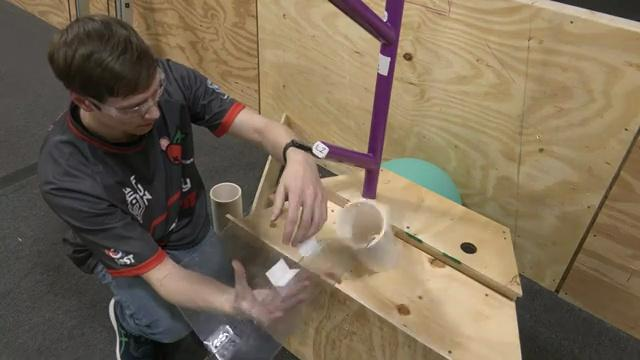CORAL: (335, 198, 398, 272), (209, 182, 244, 232)
